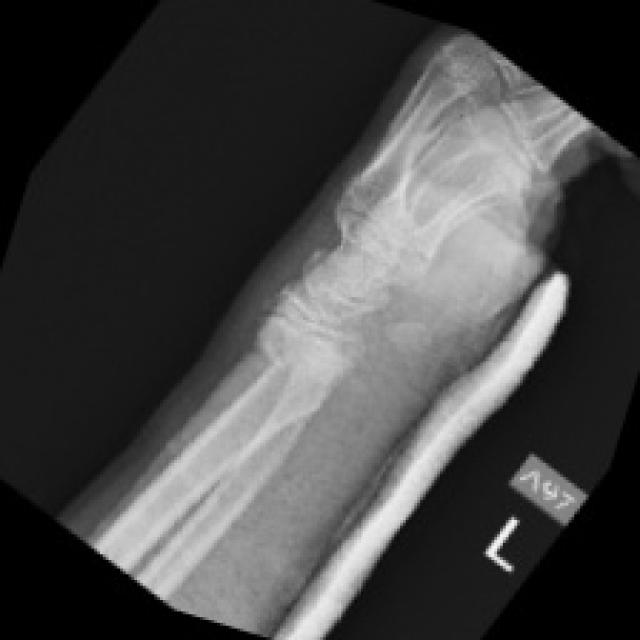fracture: (230, 309, 346, 387)
